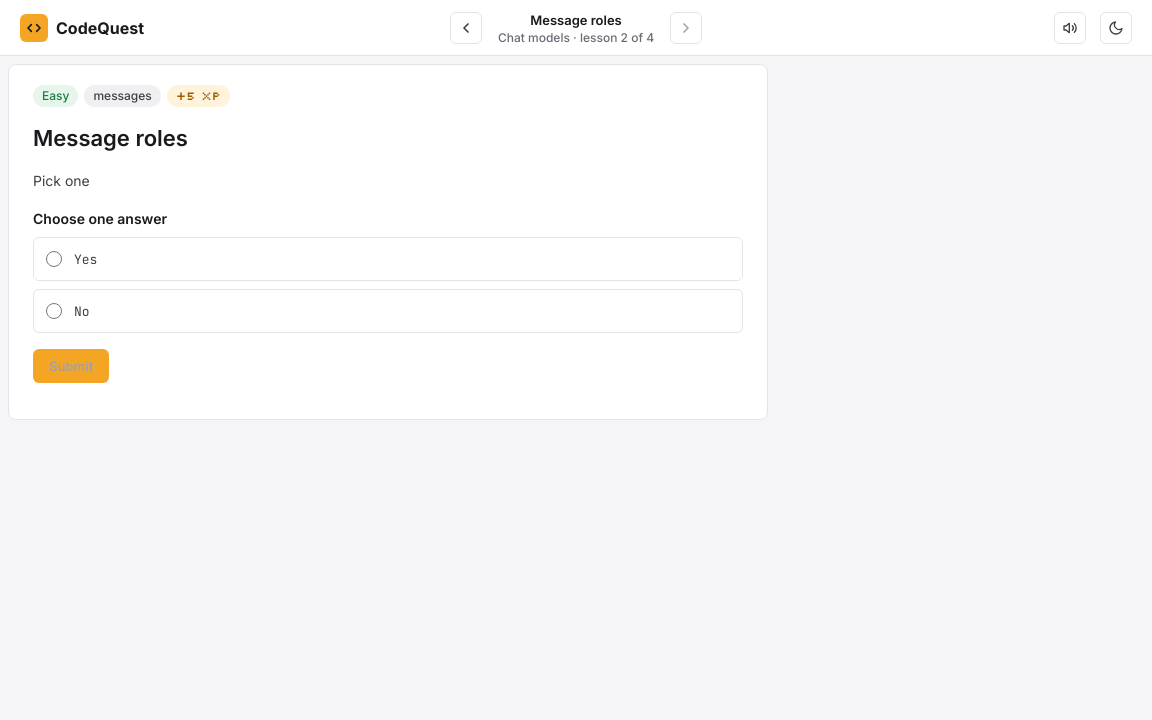
ExercisePage › renders lesson context and submits through the API
Expected: the heading "Message roles" is shown, top-left (33, 125), bottom-right (188, 151)
Expected: the text "Chat models · lesson 2 of 4" is shown, top-left (498, 30), bottom-right (654, 46)
Click the radio button labelled "No". click: (54, 311)
box: top-left (46, 303), bottom-right (62, 319)
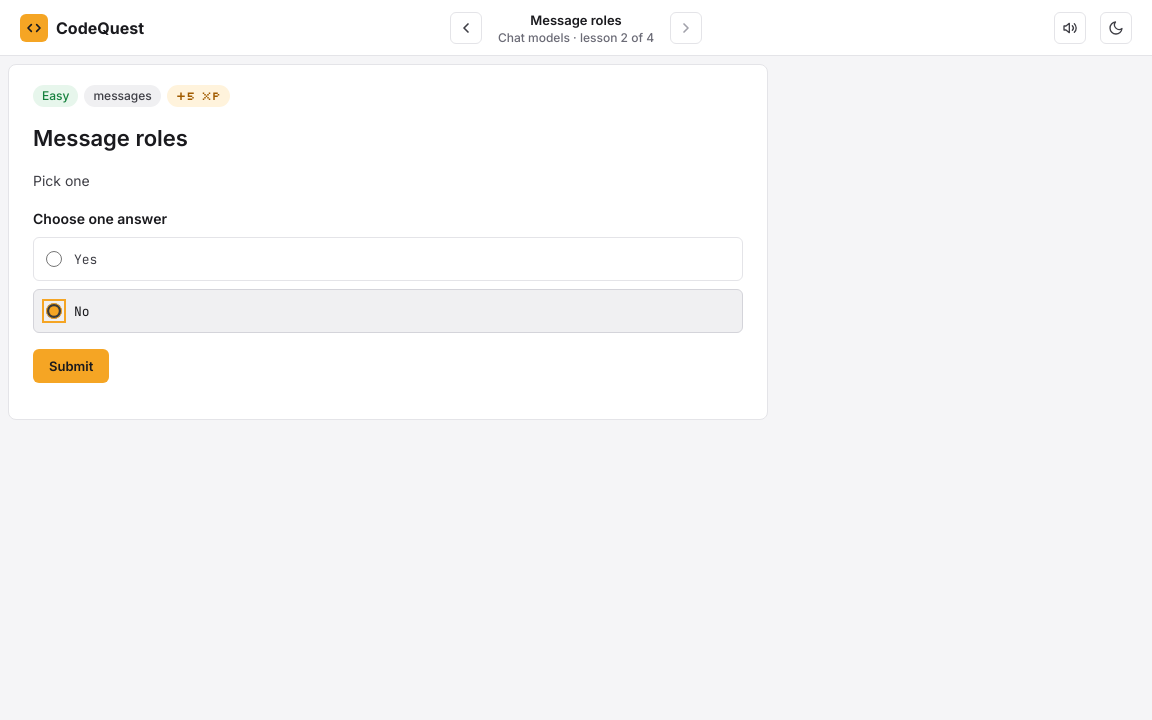
Click the button "Submit". click: (71, 366)
box: top-left (33, 349), bottom-right (109, 383)
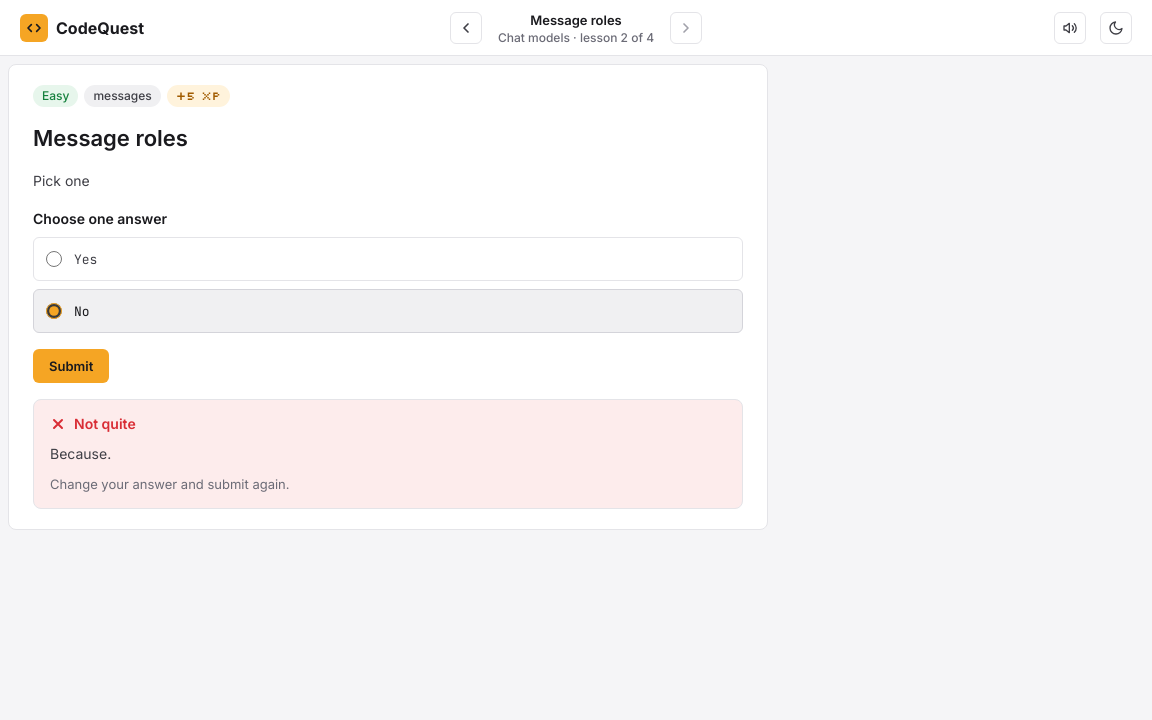
Now the text "Not quite" is shown, box top-left (50, 415), bottom-right (136, 432)
Now the text "Because." is shown, box top-left (50, 445), bottom-right (111, 462)
